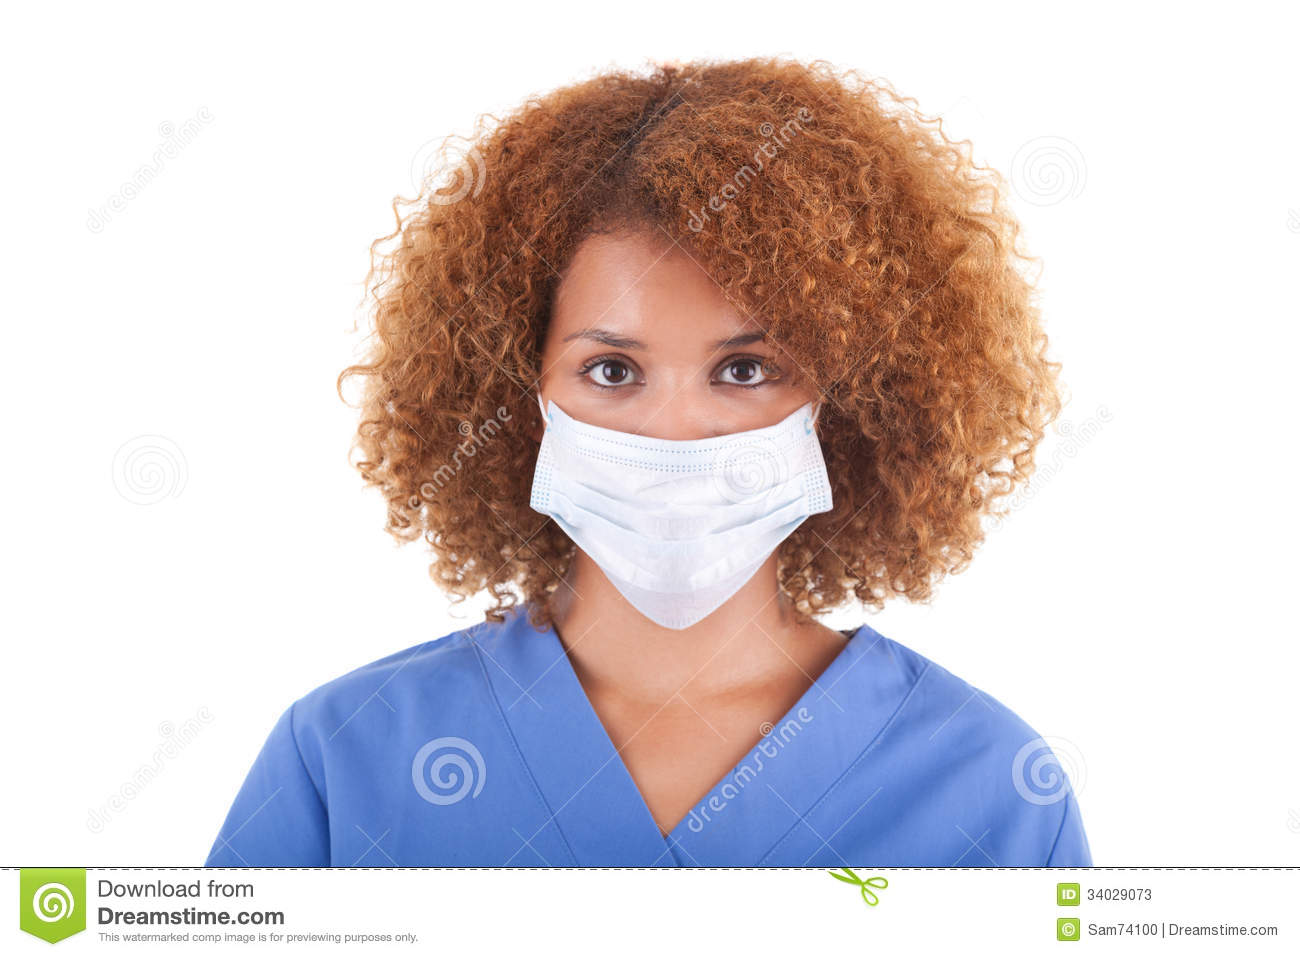mask: (525, 410, 841, 656)
